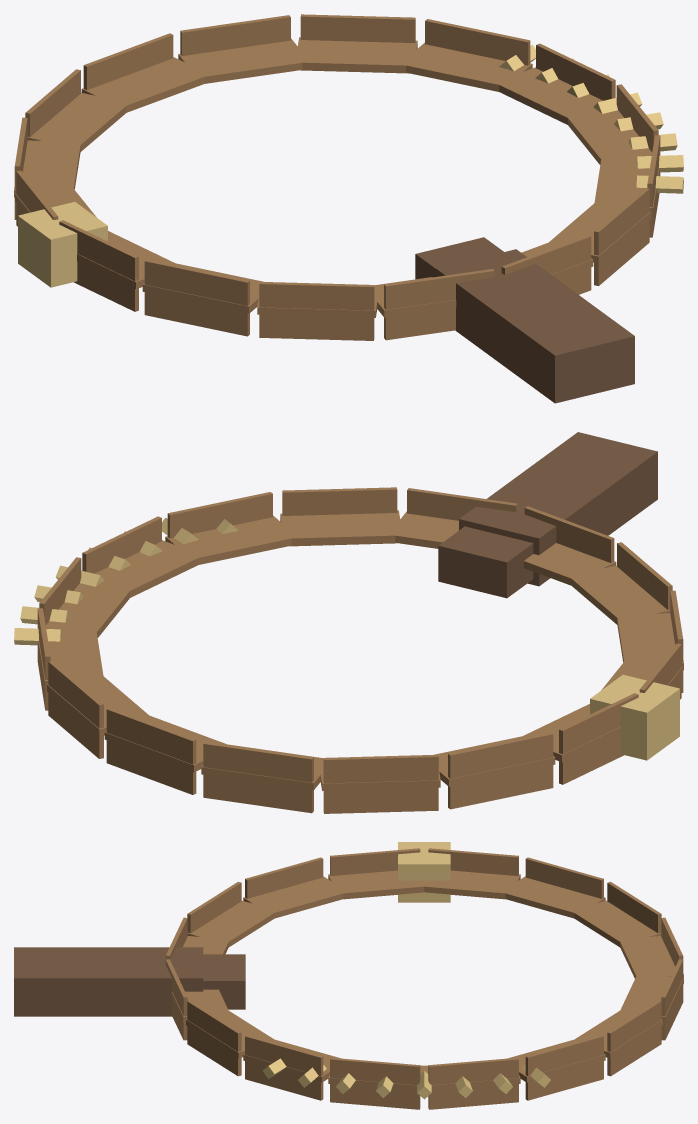
Rendered from SM_Gun_Belt.glb.
The picture shows the model from 3 angles, top to bottom: view 1: azimuth 30°, elevation 25°; view 2: azimuth 150°, elevation 25°; view 3: azimuth 270°, elevation 25°; orthographic projection. The views are drawn at different scales.
Parts seen in each view (by area): view 1: SM_Gun_Belt; view 2: SM_Gun_Belt; view 3: SM_Gun_Belt.
Part boxes in pixels (<box>): SM_Gun_Belt: <box>14,14,683,403</box>; SM_Gun_Belt: <box>14,432,683,813</box>; SM_Gun_Belt: <box>14,842,683,1109</box>.
Bounding box in the file's own units: 0.5275 × 0.0455 × 0.6366.
